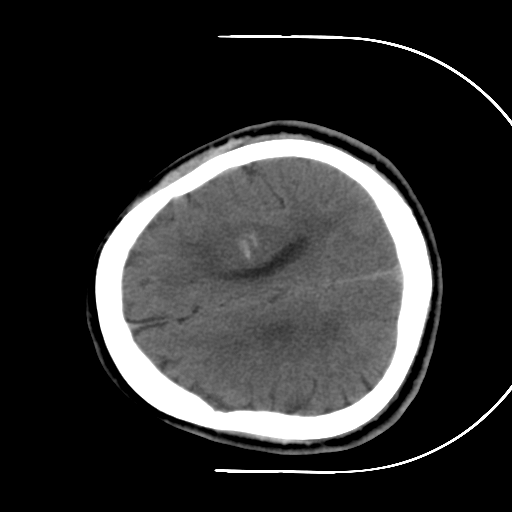a: (216, 215, 278, 280)
